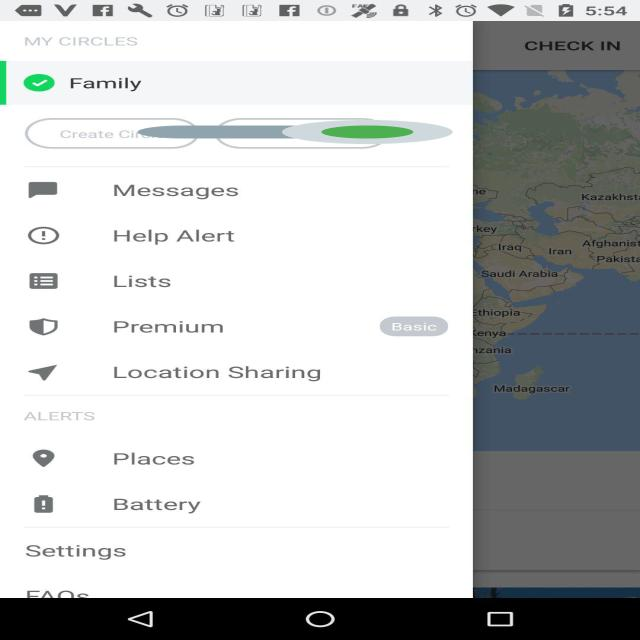social proof: (137, 110, 453, 154)
